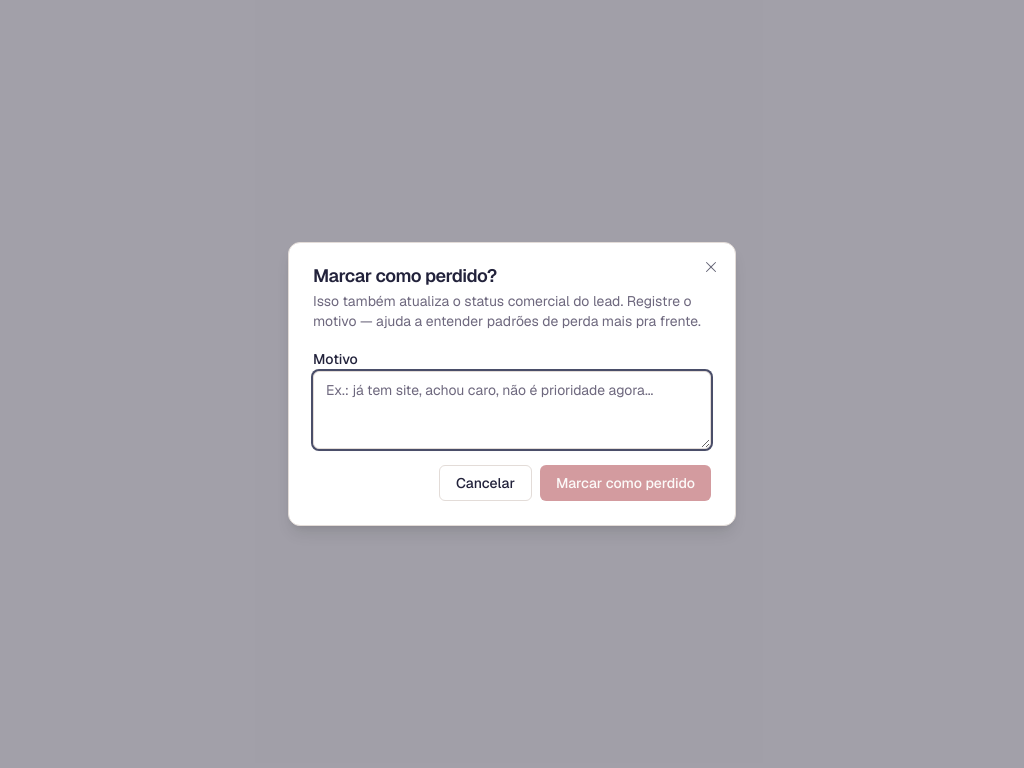
Scenario: LostReasonDialog › keeps the confirm button disabled until a reason is typed
The image size is (1024, 768).
Expected: the button "Marcar como perdido" is disabled, left=540, top=465, right=711, bottom=501
Type "Já tem site próprio" into the text box labelled "Motivo" at [512, 410], box left=313, top=371, right=711, bottom=449
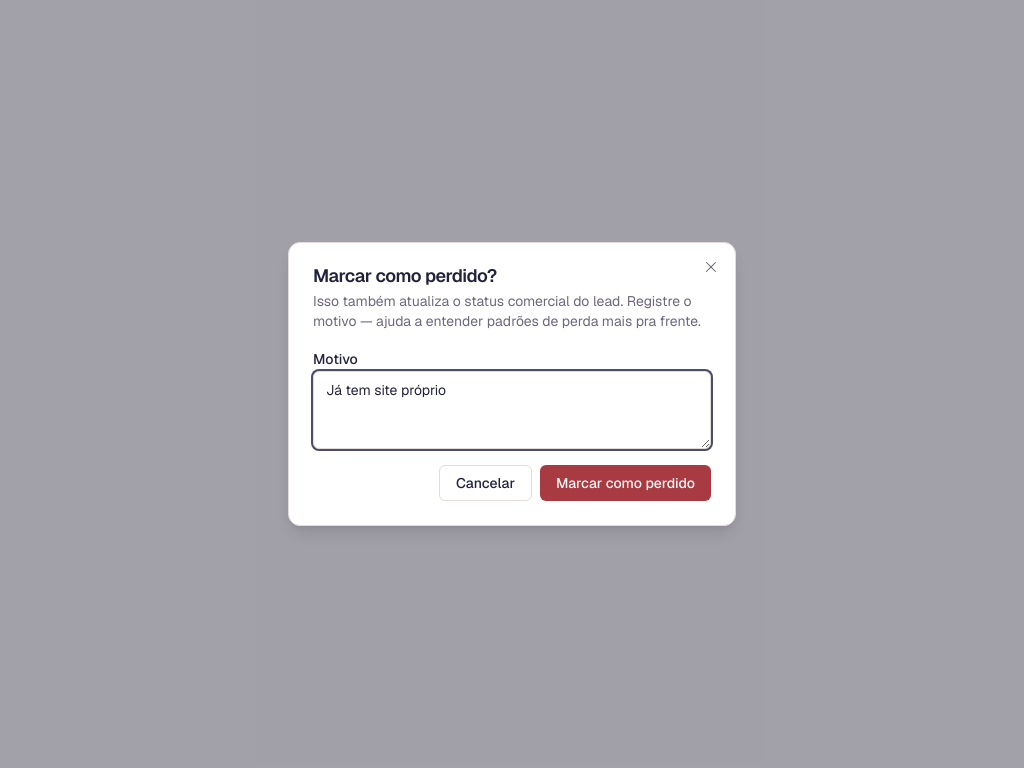
Result: the button "Marcar como perdido" is enabled at left=540, top=465, right=711, bottom=501
